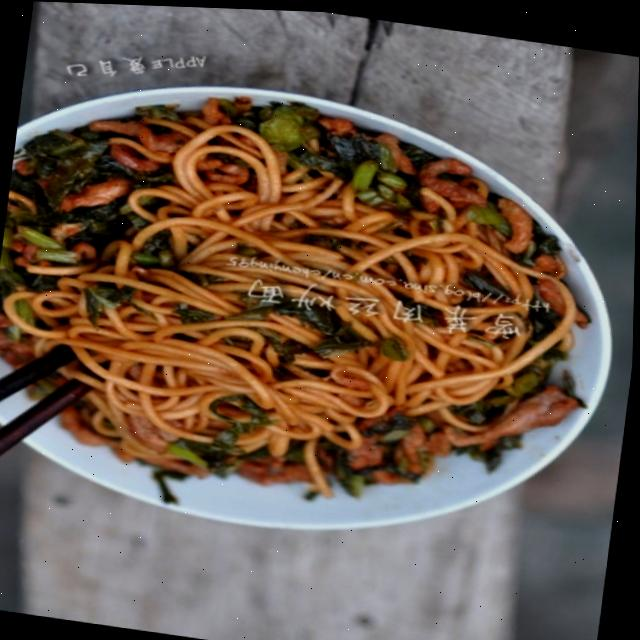面条主食: (0, 25, 640, 631)
